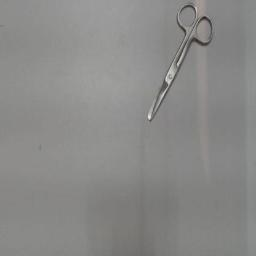Dressing Scissors: (143, 2, 221, 132)
